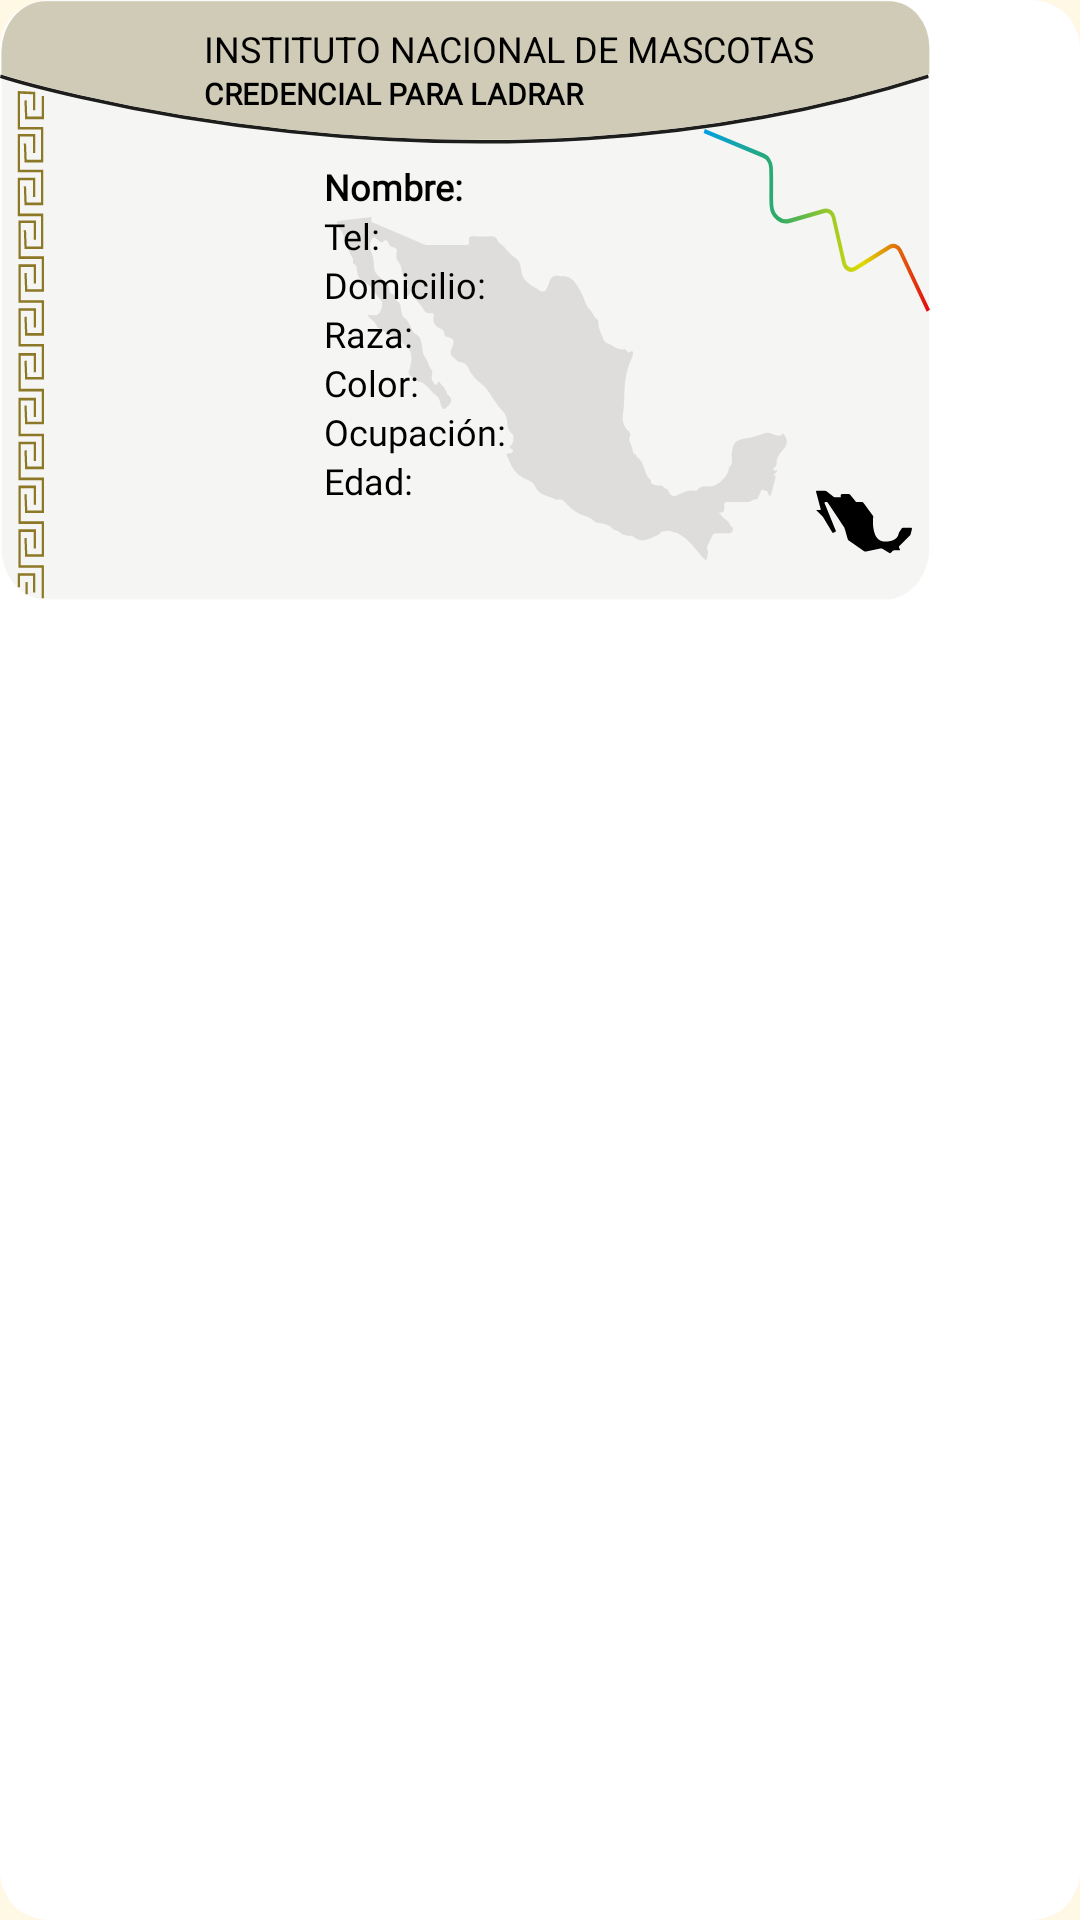

Screen size 1080*1920. Icon name, then its center in pixels as (x=x, y=y):
mexican republic map shape: (x=864, y=521)
